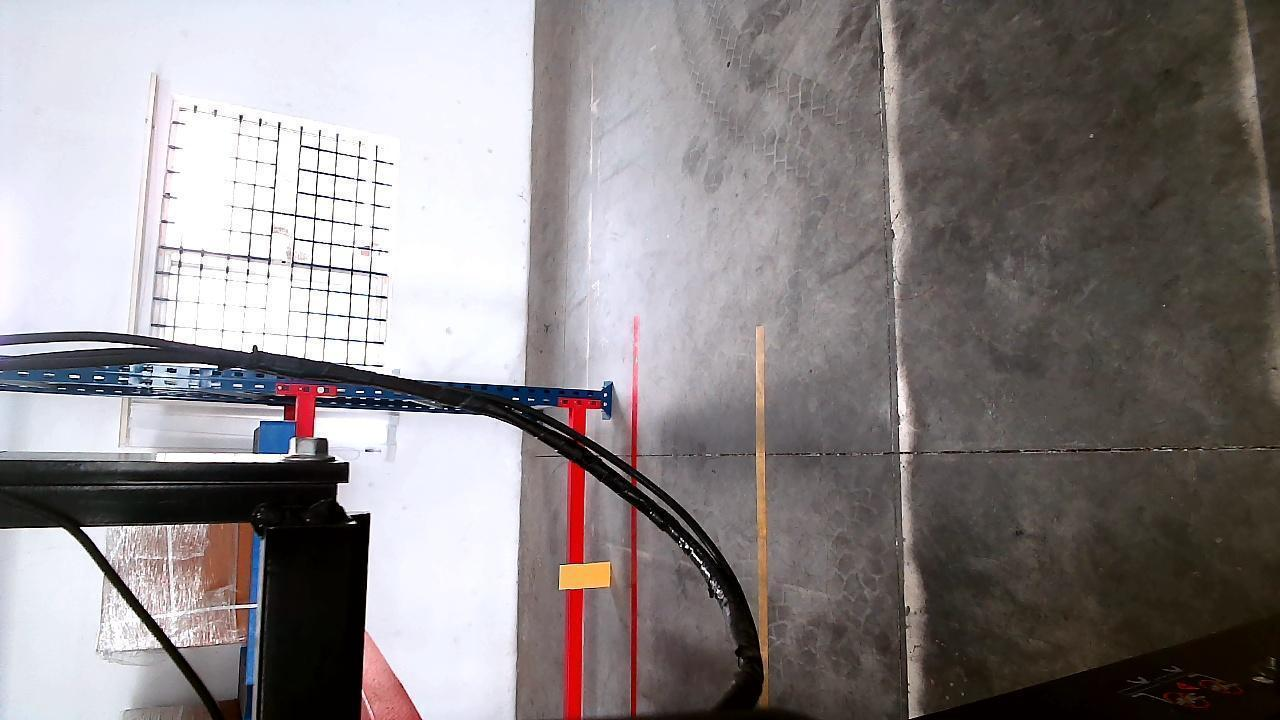red_line: (626, 310, 646, 708)
yellow_line: (753, 335, 773, 692)
